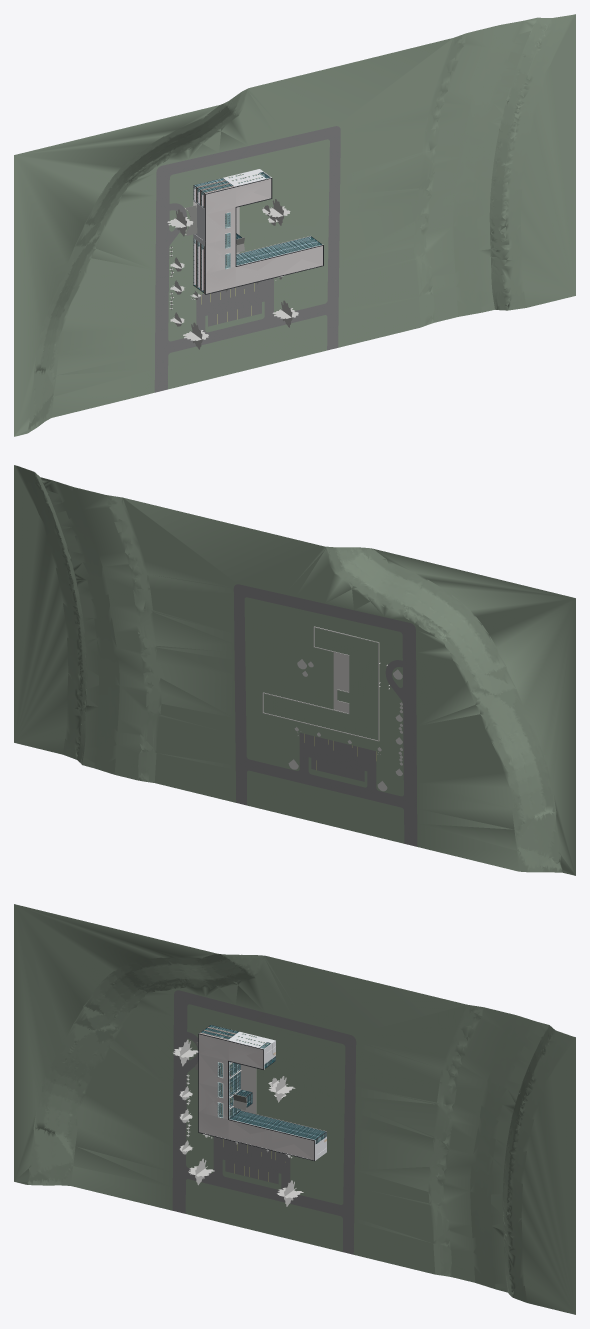
Rendered from glb-model.glb.
3 renders of one model, top to bottom at view 1: azimuth 30°, elevation 25°; view 2: azimuth 150°, elevation 25°; view 3: azimuth 330°, elevation 25°, orthographic.
Parts seen in each view (by area): view 1: result; view 2: result; view 3: result.
Part boxes in pixels (<box>): result: <box>14,14,575,436</box>; result: <box>14,465,575,875</box>; result: <box>14,904,575,1314</box>.
Size of the model in its own units: 319 by 152 by 14.31.
4 materials, 4 textured.
